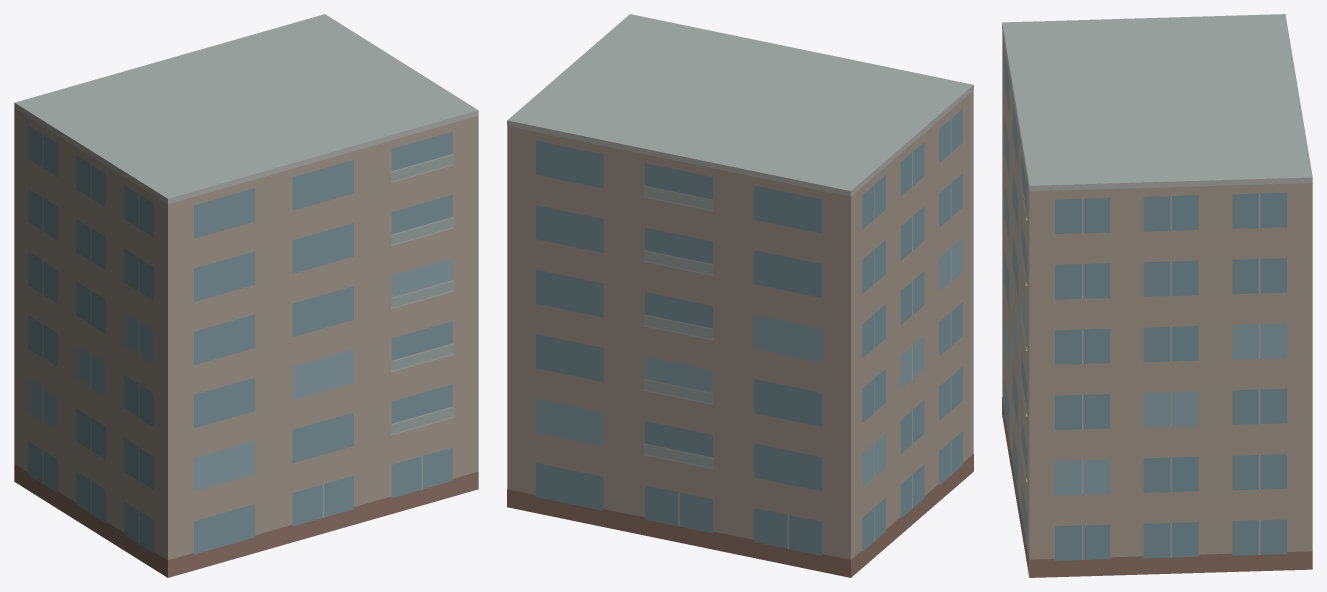
Rendered from survey-upis-32970944.glb.
The picture shows the model from 3 angles, left to right: view 1: azimuth 30°, elevation 25°; view 2: azimuth 150°, elevation 25°; view 3: azimuth 270°, elevation 25°; orthographic projection. The views are drawn at different scales.
Visible parts, largest first — view 1: survey-upis-32970944.tmp; view 2: survey-upis-32970944.tmp; view 3: survey-upis-32970944.tmp.
Boxes of the visible parts, x1,y1,x2,y2 form: survey-upis-32970944.tmp: [14, 14, 478, 577]; survey-upis-32970944.tmp: [507, 14, 973, 577]; survey-upis-32970944.tmp: [1002, 14, 1312, 577].
Bounding box in the file's own units: 16.08 × 17.1 × 12.29.
